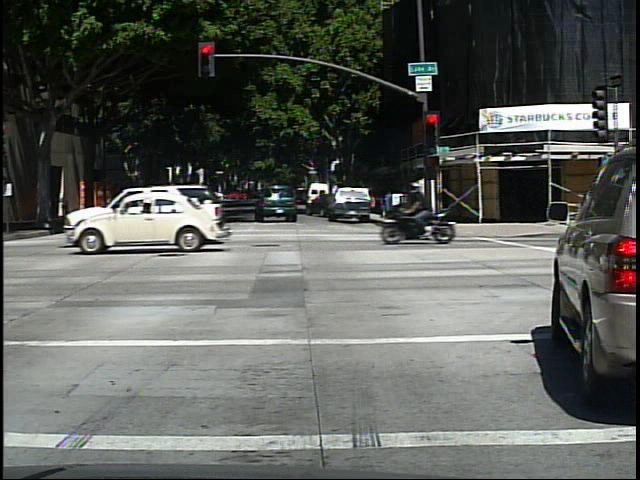person: (418, 177, 456, 238), (60, 191, 72, 224)
